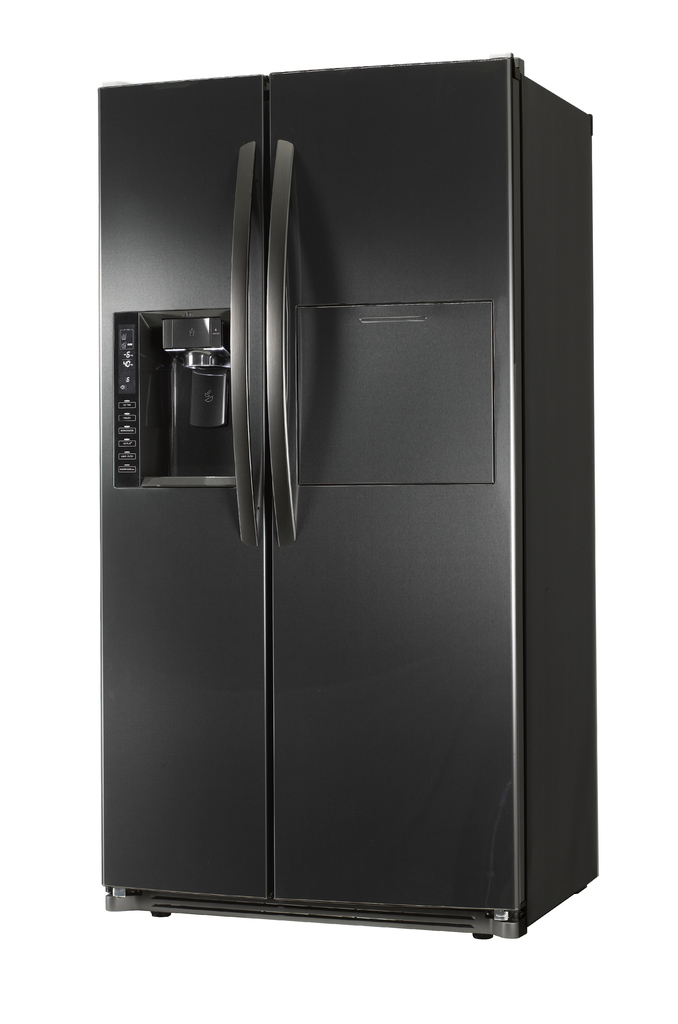handle: (262, 148, 306, 575), (220, 162, 258, 548)
refrigerator door: (266, 92, 524, 903), (97, 84, 264, 885)
